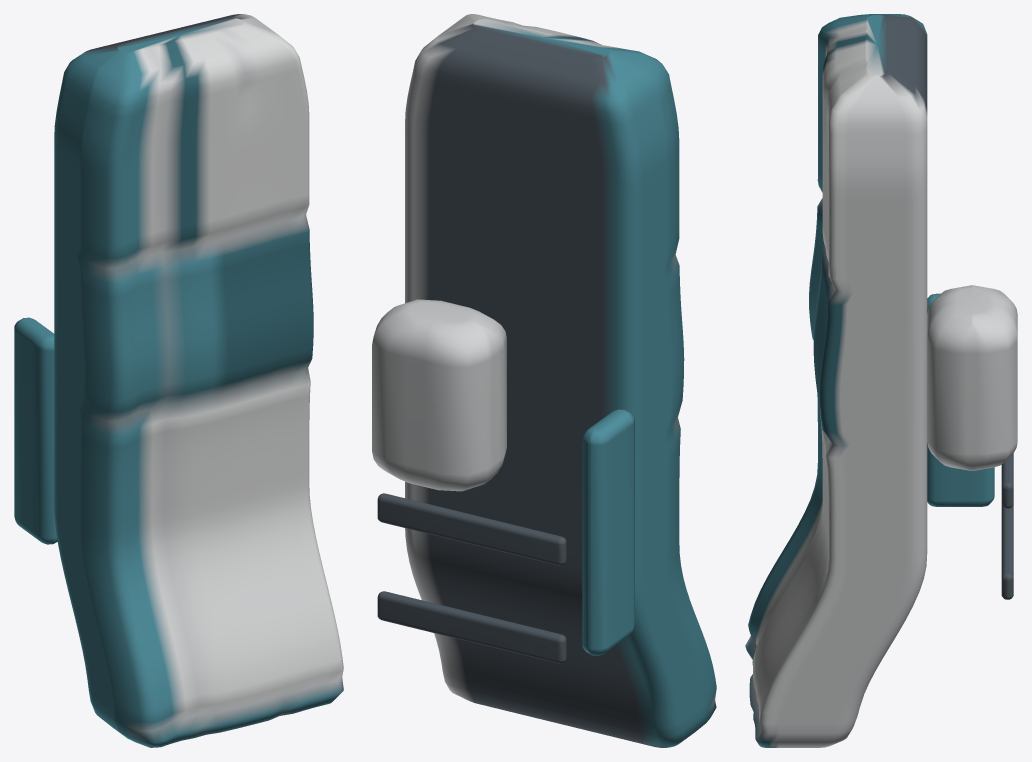
Rendered from goalie_pad_right.glb.
3 renders of one model, left to right at view 1: azimuth 30°, elevation 25°; view 2: azimuth 150°, elevation 25°; view 3: azimuth 270°, elevation 25°, orthographic. The views are drawn at different scales.
Visible parts, largest first — view 1: goalie_pad_right2; view 2: goalie_pad_right2; view 3: goalie_pad_right2.
Boxes of the visible parts, left/top/right/bottom form: goalie_pad_right2: left=14, top=14, right=343, bottom=747; goalie_pad_right2: left=372, top=14, right=716, bottom=747; goalie_pad_right2: left=745, top=14, right=1017, bottom=747.
Size of the model in its own units: 0.256 by 0.73 by 0.271.
